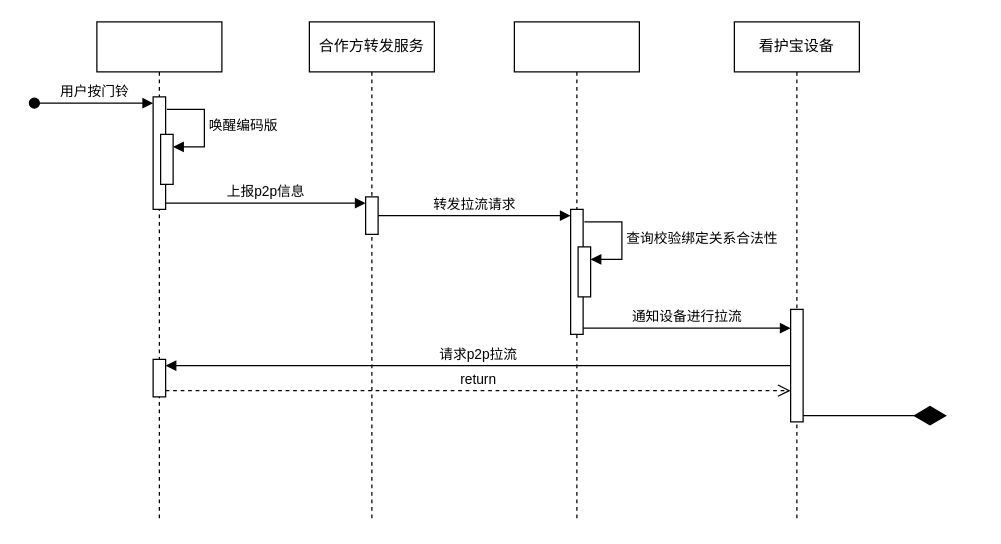
The diagram is 1001 pixels wide and 544 high, and some of its shapes have lost their labels. Here are the shapes that lost their labels. From the top down, the box of each, then its label:
(96, 21, 222, 522): 合作方门锁
(513, 21, 639, 522): 看护宝后台
